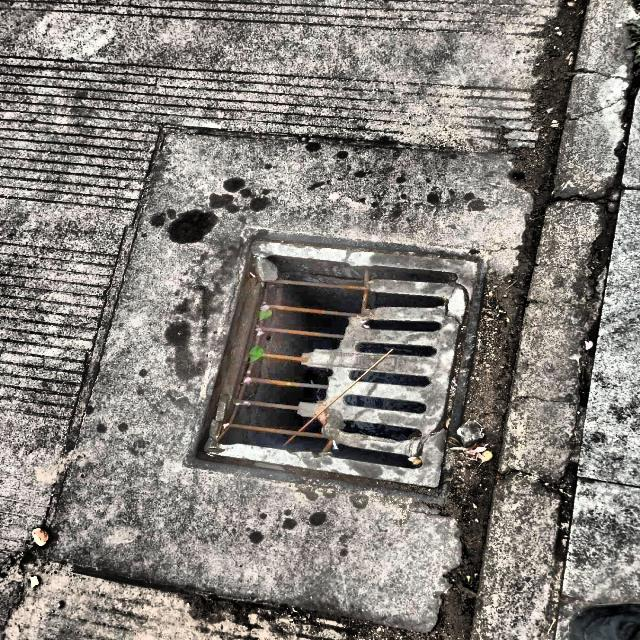Open Manhole: (209, 235, 462, 498)
